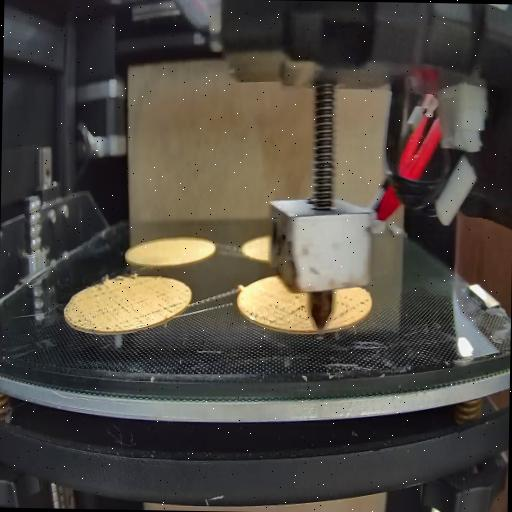under_extrusion: (76, 284, 134, 330), (248, 298, 303, 330), (140, 296, 185, 324), (335, 293, 369, 319)
